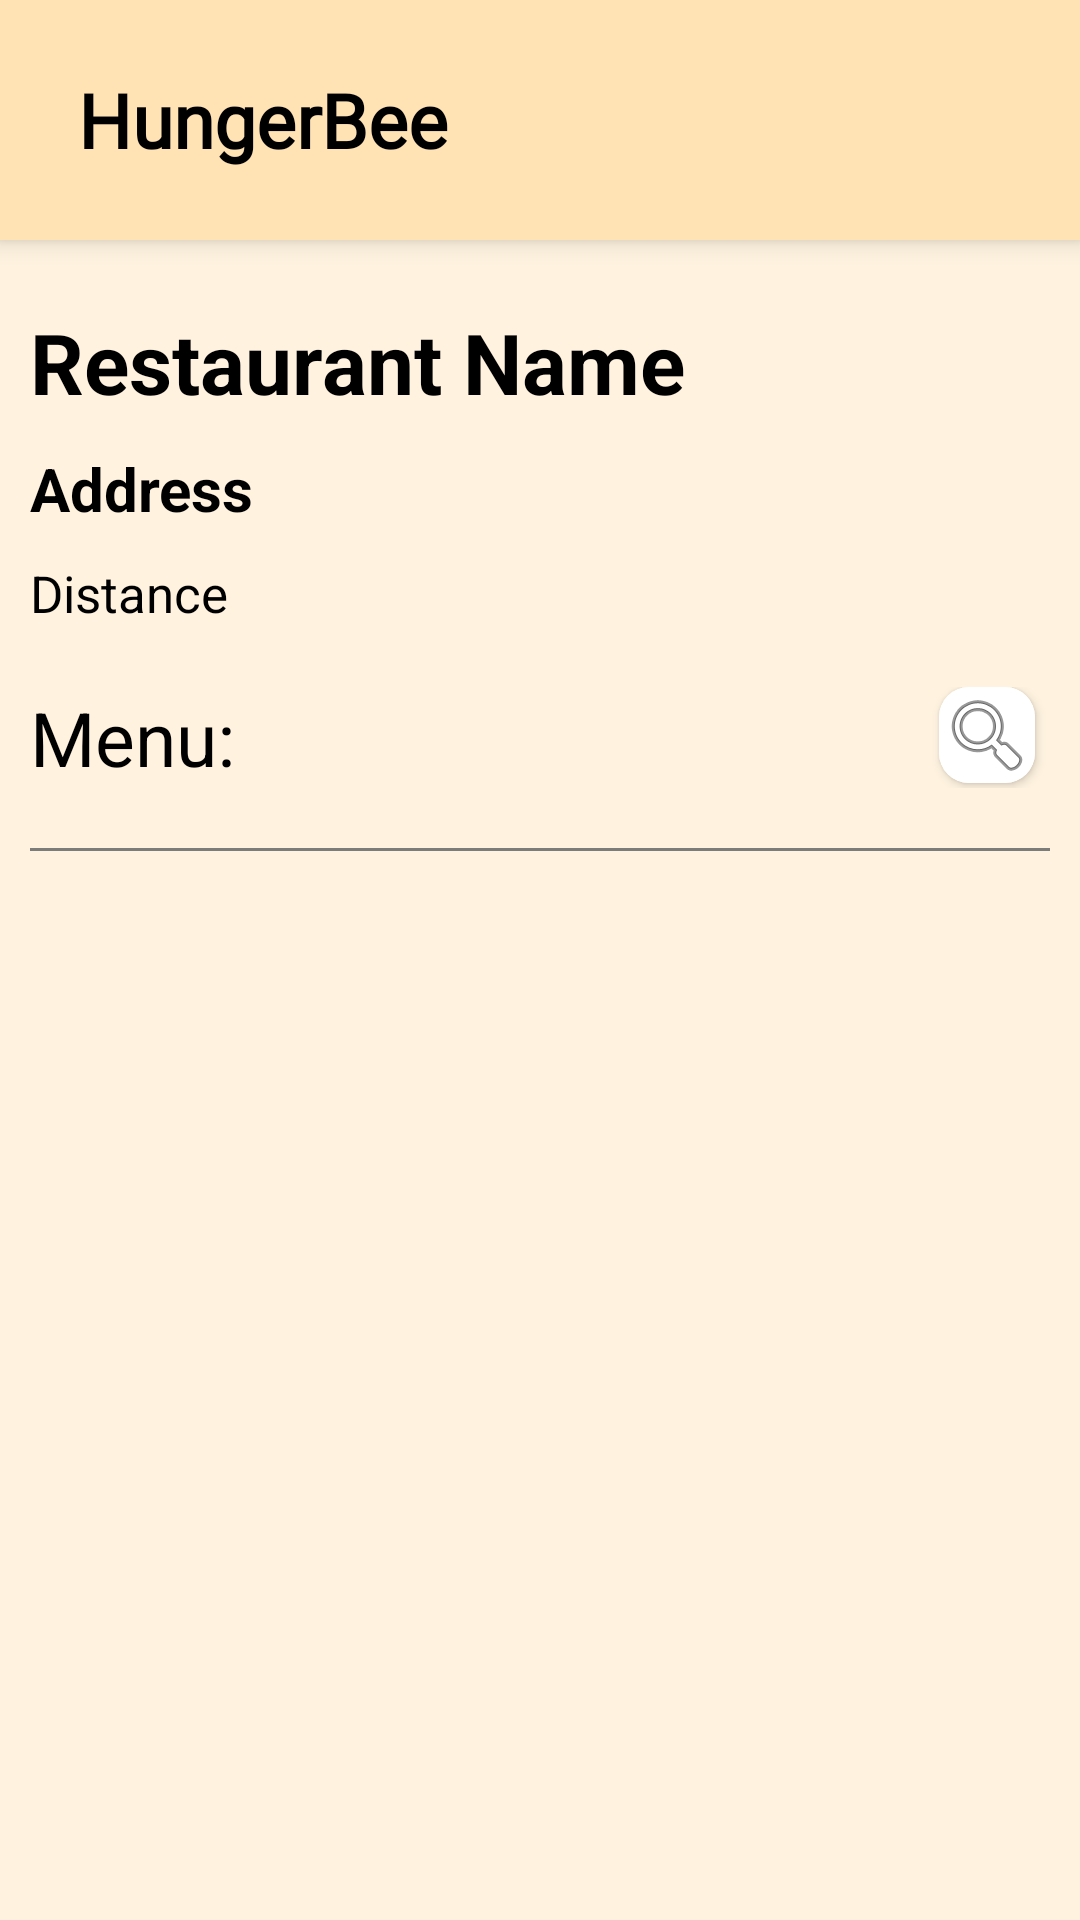

Named icons in this screenshot (1080px×1920px) and their bounding boxes, (x1, y1, x2, y2):
search: (939, 687, 1035, 783)
